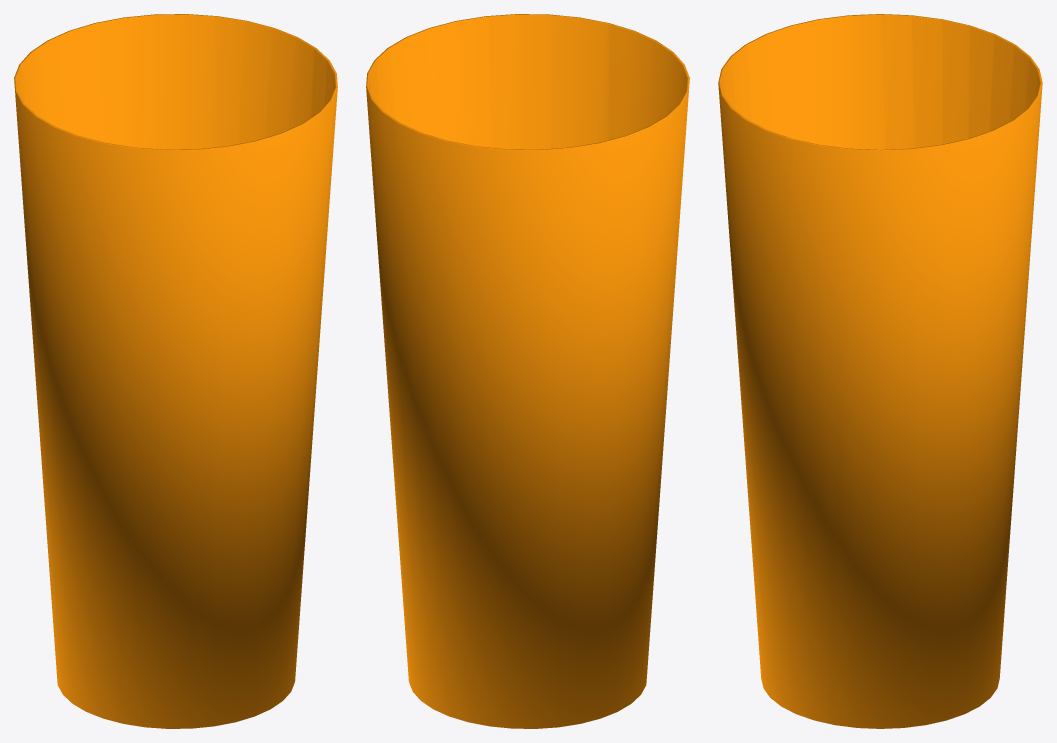
File: orange_cup.glb
3 views of the same model, side by side, from view 1: azimuth 30°, elevation 25°; view 2: azimuth 150°, elevation 25°; view 3: azimuth 270°, elevation 25° (orthographic).
Visible parts, largest first — view 1: Cylinder_Cylinder.003; view 2: Cylinder_Cylinder.003; view 3: Cylinder_Cylinder.003.
Boxes of the visible parts, <box> form: Cylinder_Cylinder.003: <box>14,14,337,728</box>; Cylinder_Cylinder.003: <box>366,14,689,728</box>; Cylinder_Cylinder.003: <box>718,14,1042,728</box>.
Size of the model in its own units: 2.13 by 4.31 by 2.13.
